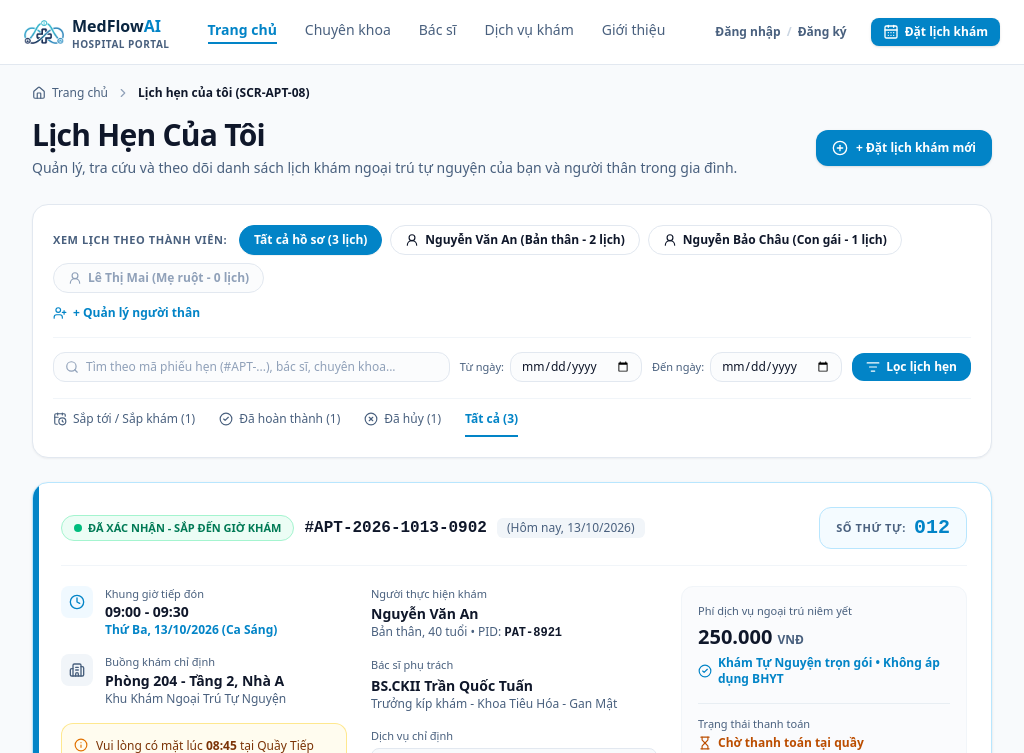
Scenario: AppointmentListPage (SCR-APT-08) › filters appointments by status tab and family member pill, showing empty state for 0-appointment member
Expected: the text "#APT-2026-1013-0902" is shown, [304,516,487,540]
# Switch to Completed tab
Click the tab "Đã hoàn thành (1)".
click(280, 424)  # box [219,411,340,437]
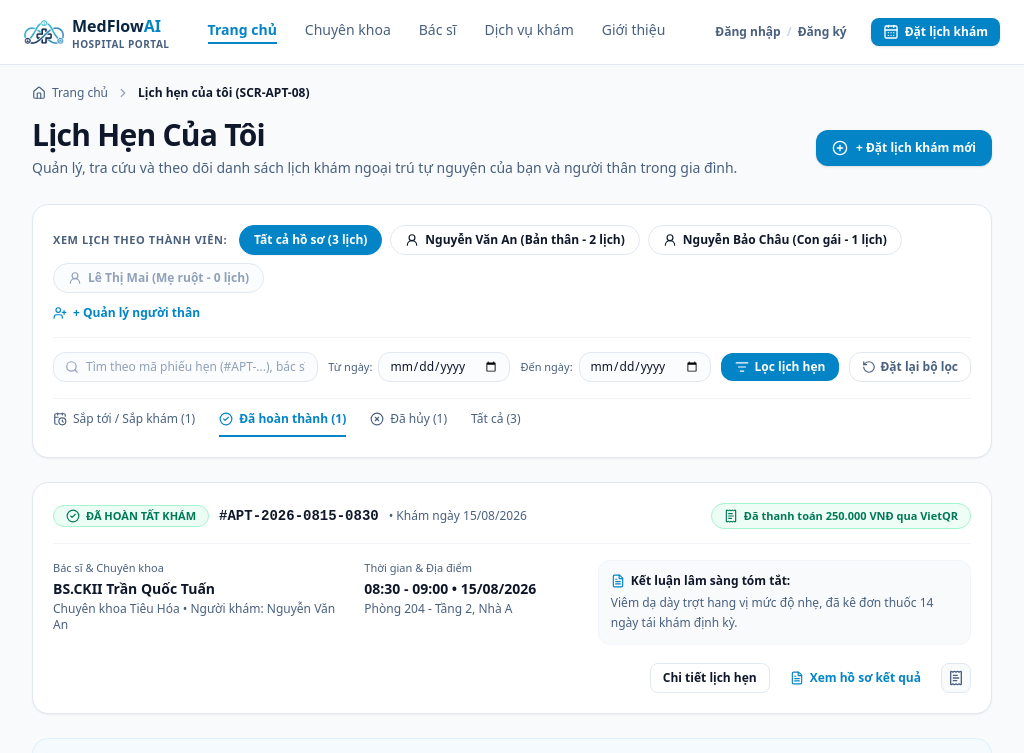
Expected: the text "#APT-2026-0815-0830" is shown, [219,506,379,526]
Expected: the text "#APT-2026-1013-0902" is gone
Click the button "Lê Thị Mai (Mẹ ruột - 0 lịch)".
click(159, 278)  # box [53,263,264,293]
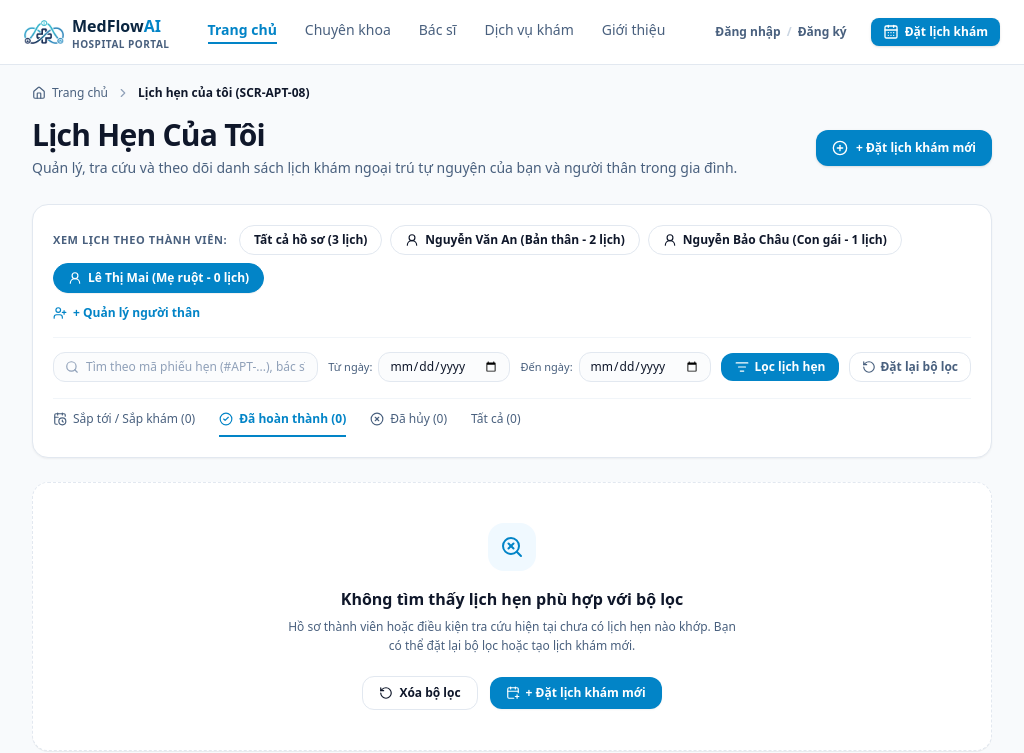
Expected: the heading "Không tìm thấy lịch hẹn phù hợp với bộ lọc" is shown, [341,588,683,610]
Click the button "Xóa bộ lọc".
click(420, 693)  # box [362,676,478,710]
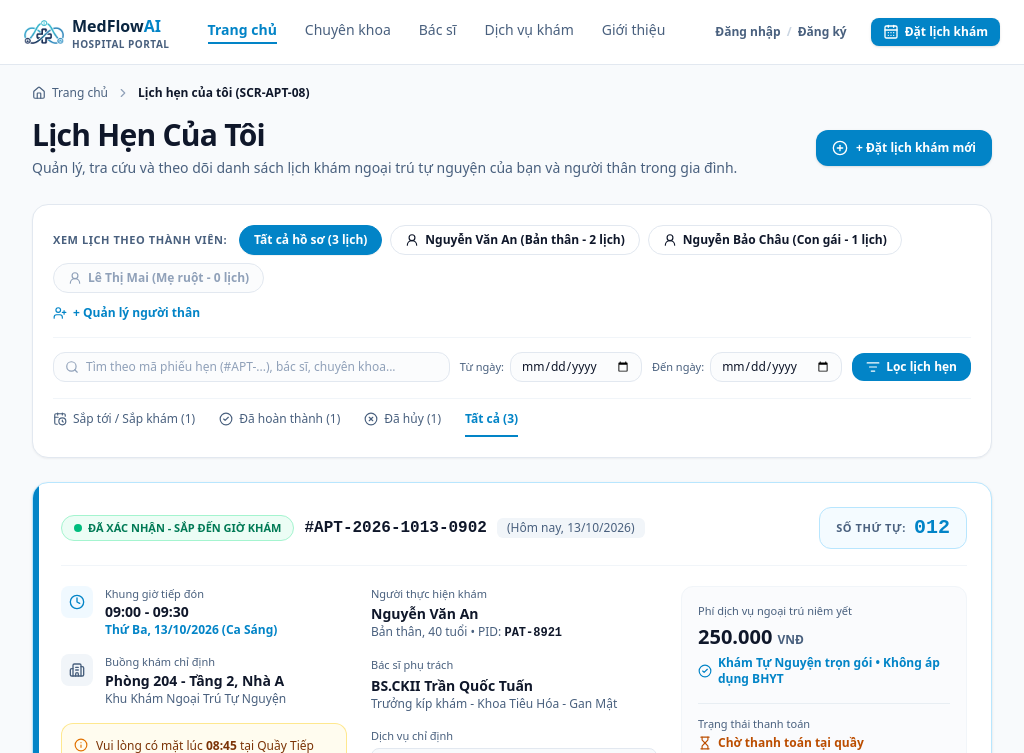
Expected: the text "#APT-2026-1013-0902" is shown, [304,516,487,540]
